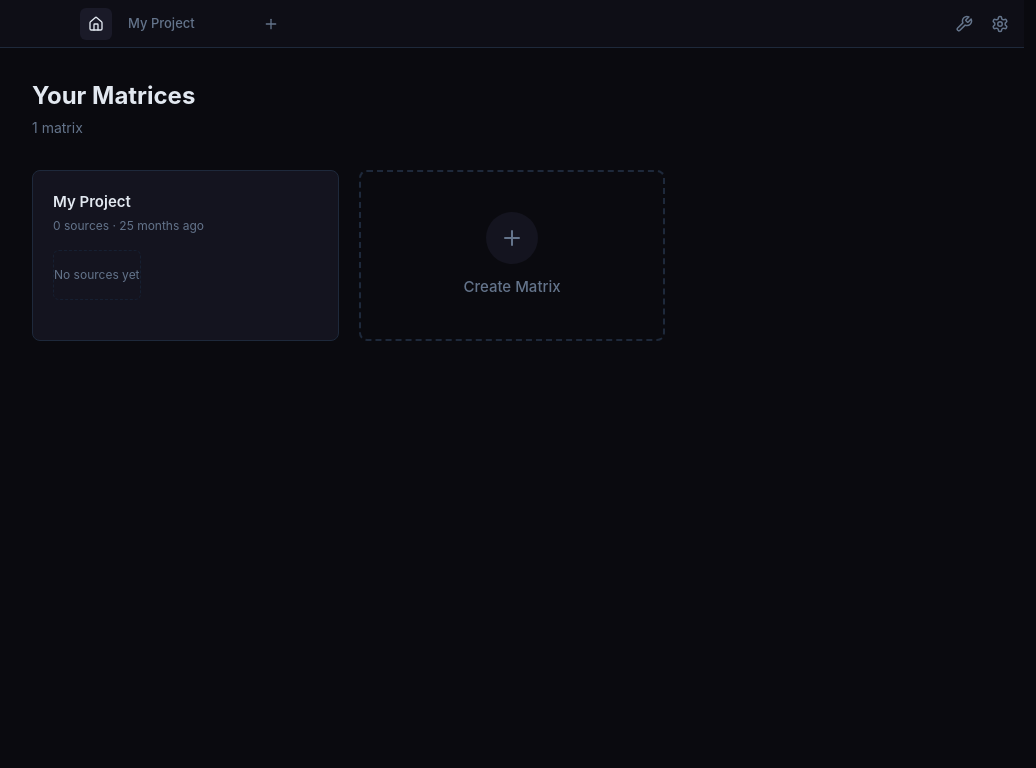
Test: App › switches to matrix view when matrix card is clicked from Home
Expected: the heading "Your Matrices" is shown, [32,81,195,110]
Note: The last one is in the HomeView grid card
Double-click the heading "My Project" at (92, 202), box [53,192,131,211]
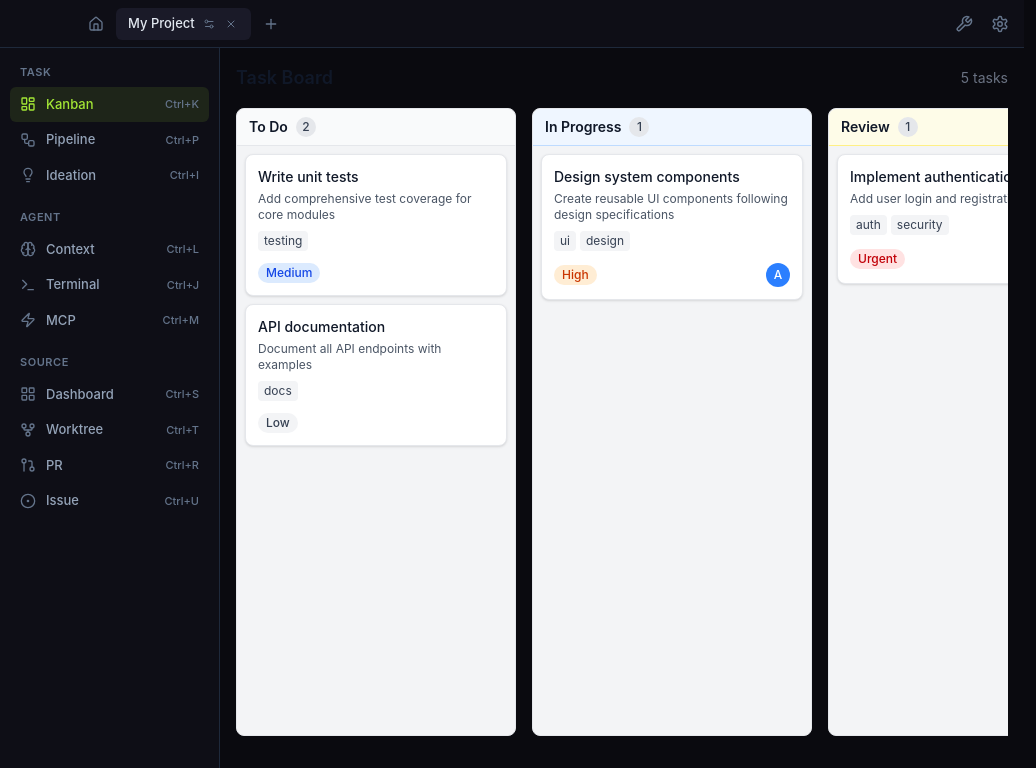
Now the heading "Your Matrices" is gone
